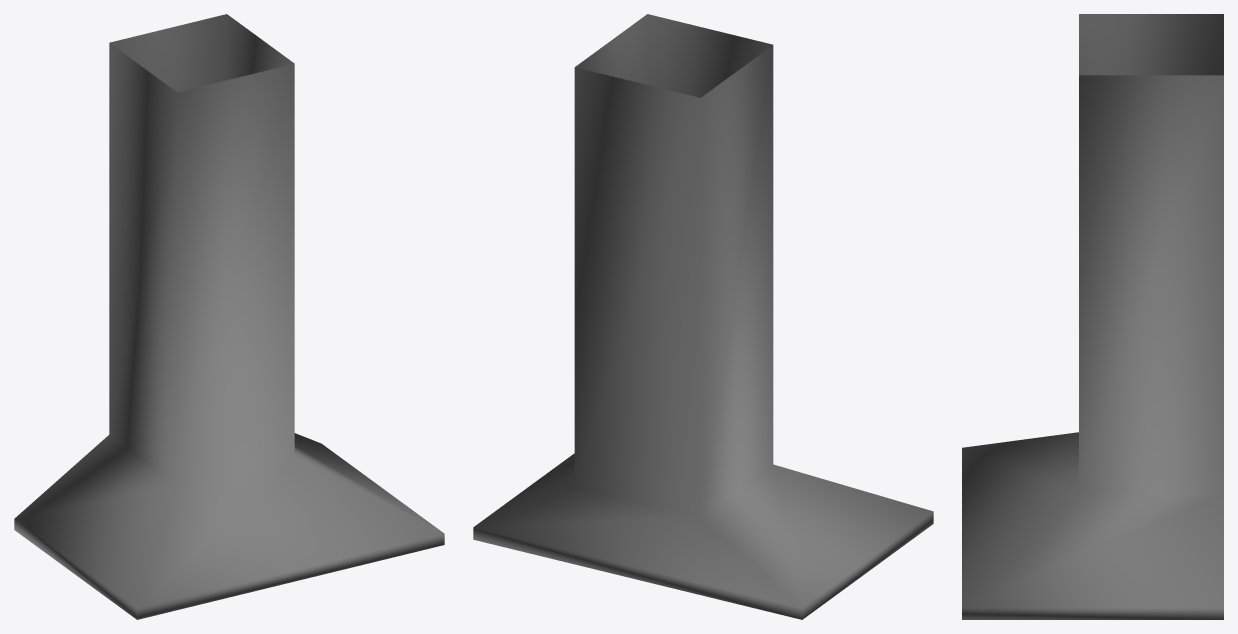
File: ExtractorHood.fbx
3 renders of one model, left to right at view 1: azimuth 30°, elevation 25°; view 2: azimuth 150°, elevation 25°; view 3: azimuth 270°, elevation 25°, orthographic. The views are drawn at different scales.
Visible parts, largest first — view 1: ExtractorHood; view 2: ExtractorHood; view 3: ExtractorHood.
Part boxes in pixels (bbox=[...]): ExtractorHood: bbox=[14, 14, 444, 619]; ExtractorHood: bbox=[473, 14, 933, 619]; ExtractorHood: bbox=[962, 14, 1223, 619].
Bounding box in the file's own units: 96.62 × 139 × 66.86.
